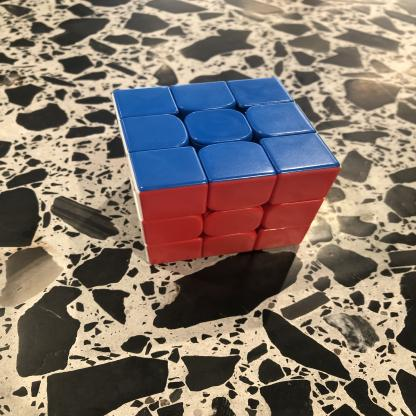SolvedCube: (101, 66, 349, 260)
